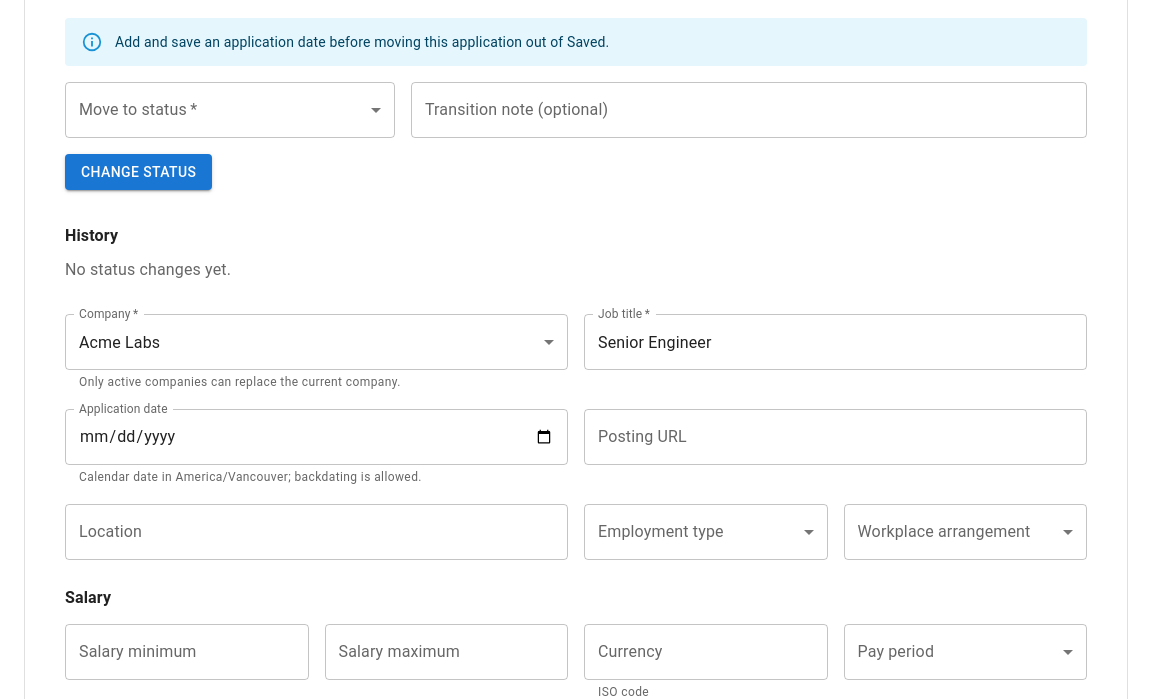
Test: identity workflow › keeps stale edits visible and offers to load the latest application
The width and height of the screenshot is (1152, 699).
(page scrolled)
Replace the text in the field labelled "Job title *" with "My stale edit": (836, 342) [584, 314, 1087, 370]
(page scrolled)
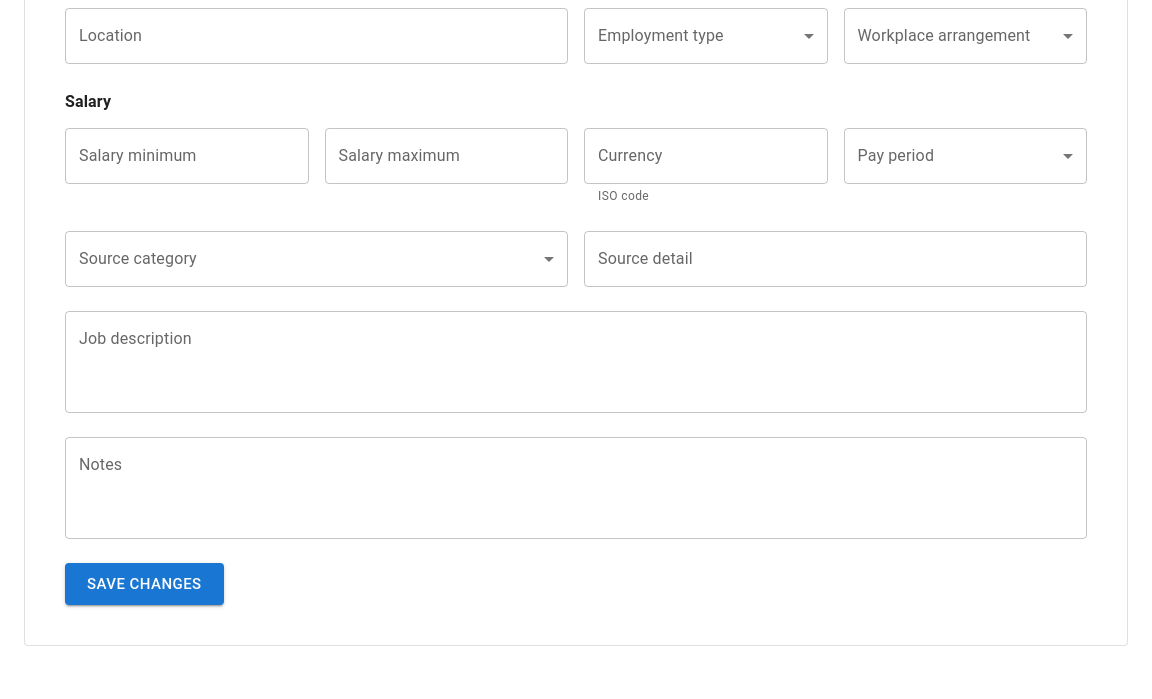
Click the button "Save changes": (144, 584) [65, 563, 224, 605]
(page scrolled)
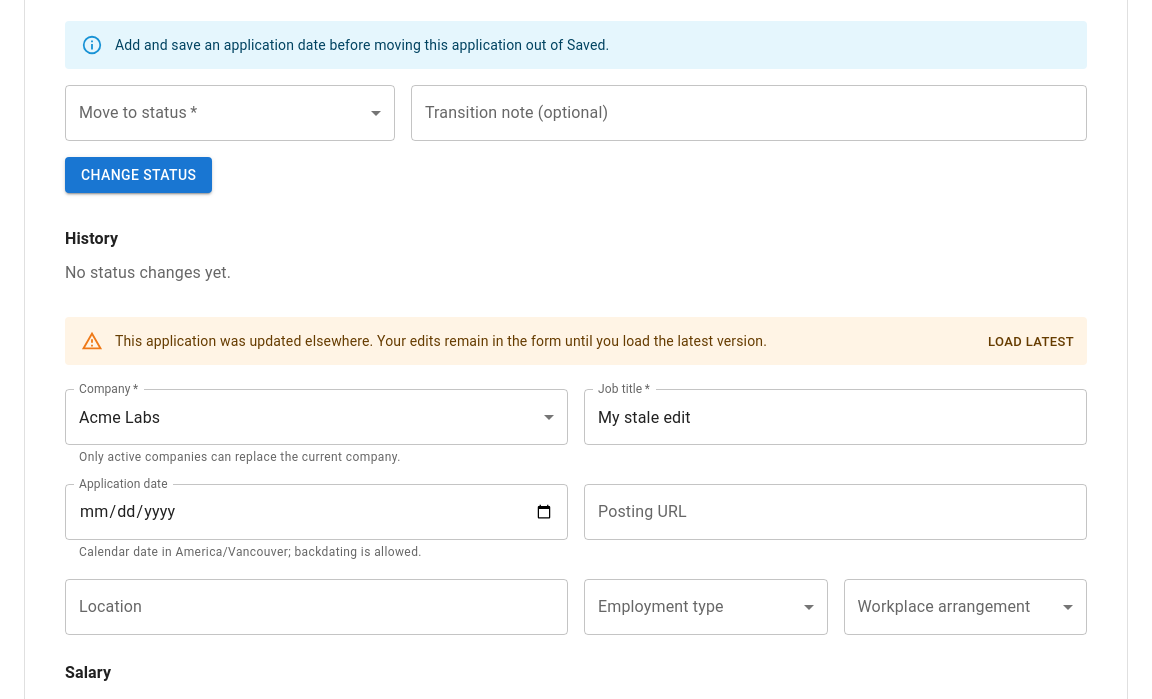
Now the text "updated elsewhere" is shown, box [115, 333, 767, 349]
Now the button "Load latest" is shown, box [983, 327, 1079, 358]
